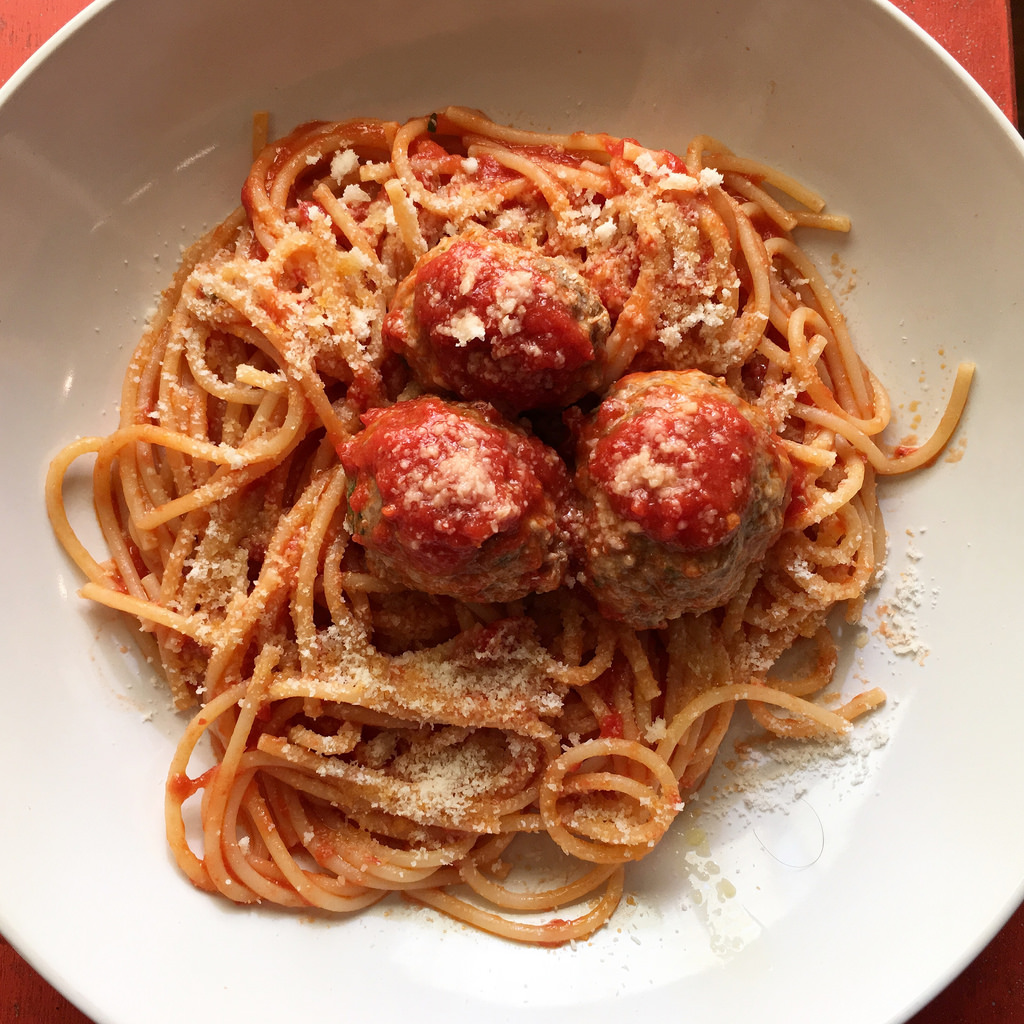meatballs: (345, 376, 555, 576), (606, 376, 778, 614), (422, 258, 599, 412)
plain spaghetti: (147, 512, 650, 868)
